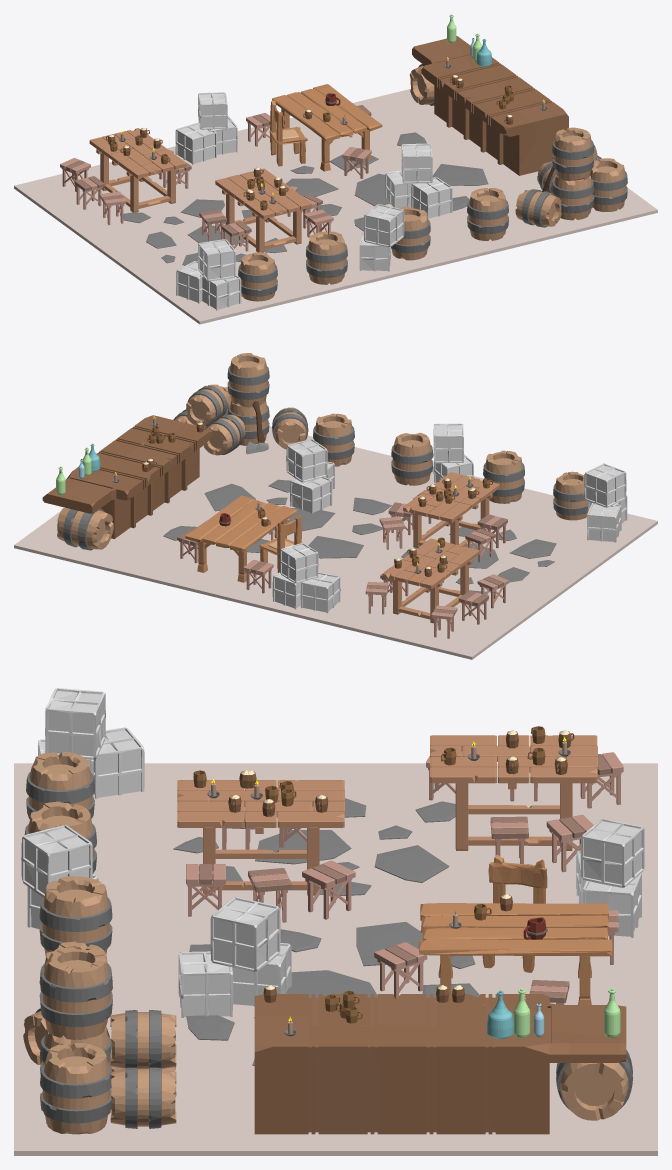
File: drinker.fbx
3 renders of one model, top to bottom at view 1: azimuth 30°, elevation 25°; view 2: azimuth 150°, elevation 25°; view 3: azimuth 270°, elevation 25°, orthographic. The views are drawn at different scales.
Visible parts, largest first — view 1: ground2, Cube.019, Cube.020, Cube.006, Plane, Cube.004, Plane.001, Cylinder.015, Cylinder.043, Cylinder.052, Cylinder.012, Cylinder.002 (+25 smaller); view 2: ground2, Cube.019, Cube.020, Plane, Cube.006, Cube.004, Cylinder.017, Cylinder.001, Cylinder.015, Plane.001, Cylinder.043, Cylinder.052 (+25 smaller); view 3: ground2, Cube.019, Cube.020, Cube.004, Cube.006, Plane, Cylinder.015, Plane.001, Cylinder.012, Cylinder.001, Cube.023, Cube.002 (+24 smaller).
Part boxes in pixels (x1,y1,x2,y2): ground2: (14,89,657,324); Cube.019: (412,36,568,175); Cube.020: (89,128,186,212); Cube.006: (215,168,312,252); Plane: (286,132,488,231); Cube.004: (272,84,382,141); Plane.001: (123,199,286,265); Cylinder.015: (552,127,594,180); Cylinder.043: (306,231,347,284); Cylinder.052: (467,188,508,240); Cylinder.012: (590,158,627,211); Cylinder.002: (238,252,277,301); ground2: (14,426,657,659); Cube.019: (42,415,212,538); Cube.020: (382,538,479,623); Plane: (163,479,391,558); Cube.006: (403,472,499,547); Cube.004: (185,495,297,552); Cylinder.017: (57,507,113,550); Cylinder.001: (391,432,433,485); Cylinder.015: (227,353,269,407); Plane.001: (401,527,556,600); Cylinder.043: (483,450,524,503); Cylinder.052: (313,413,354,466); ground2: (14,763,657,1155); Cube.019: (254,994,626,1134); Cube.020: (430,735,597,850); Cube.004: (418,903,612,956); Cube.006: (177,780,344,895); Plane: (186,922,479,1065); Cylinder.015: (40,947,112,1039); Plane.001: (173,798,455,895); Cylinder.012: (40,1043,111,1134); Cylinder.001: (39,876,112,956); Cube.023: (210,897,280,971); Cube.002: (45,688,105,759).
Size of the model in its own units: 77.45 by 13.13 by 54.41.
34 materials, 20 textured.
